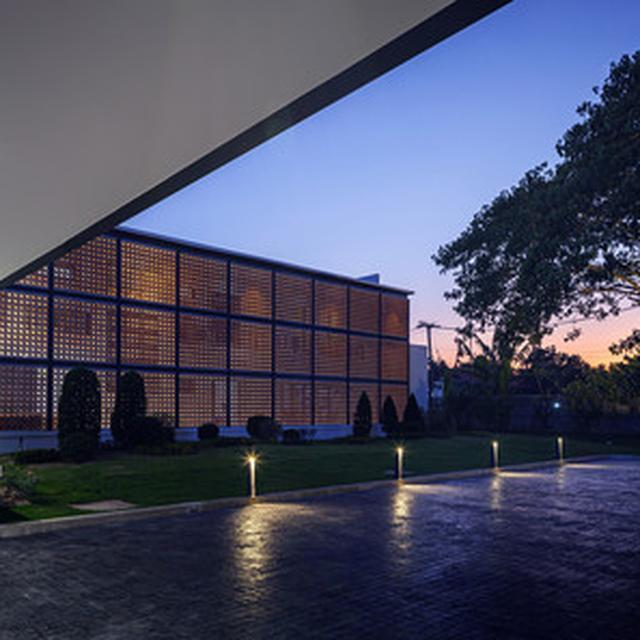building: (0, 198, 421, 457)
